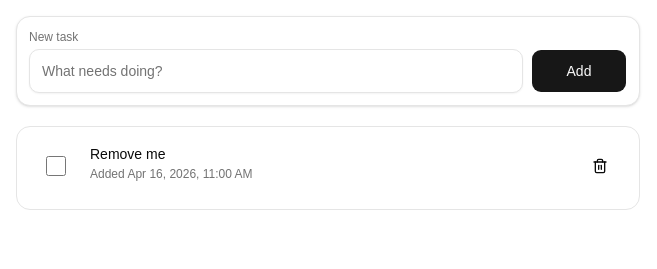
Scenario: TodoApp › deletes a todo after confirm and clears the row
This screenshot has width=657, height=269.
Expected: the text "Remove me" is shown, [90,146,166,162]
Step 1. Click the button named "Delete “Remove me”" → (600, 166), box [578,144,622,188]
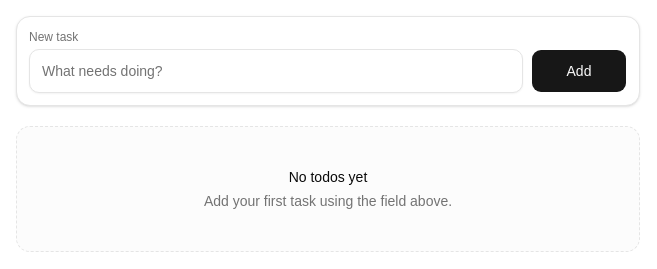
Expected: the text "Remove me" is gone
